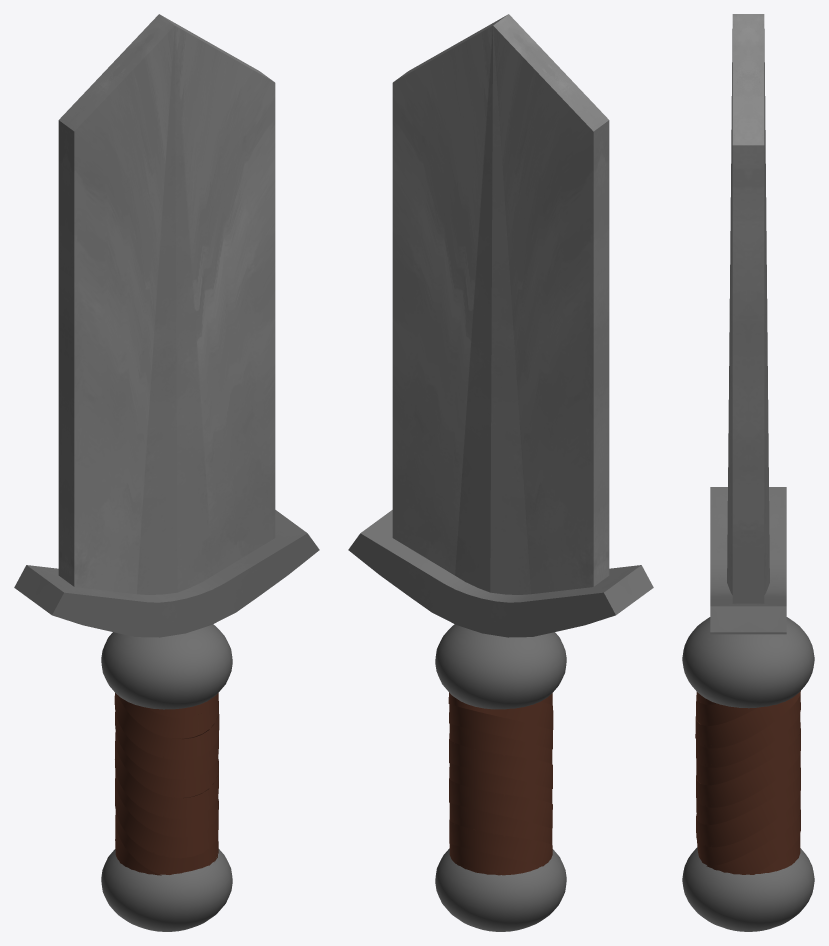
The model's file is Zwaard 2.0.fbx.
The picture shows the model from 3 angles, left to right: view 1: azimuth 30°, elevation 25°; view 2: azimuth 150°, elevation 25°; view 3: azimuth 270°, elevation 25°; orthographic projection.
Visible parts, largest first — view 1: Circle.003, Circle.005, Sphere.005, Sphere.003, Cylinder.062, Cylinder.059, Cylinder.057, Cylinder.061, Cylinder.063, Cylinder.058, Cylinder.060, Cylinder.056; view 2: Circle.003, Circle.005, Sphere.005, Sphere.003, Cylinder.059, Cylinder.057, Cylinder.055, Cylinder.061, Cylinder.056, Cylinder.060, Cylinder.058, Cylinder.054 (+1 smaller); view 3: Circle.003, Sphere.005, Sphere.003, Circle.005, Cylinder.059, Cylinder.057, Cylinder.062, Cylinder.061, Cylinder.056, Cylinder.060, Cylinder.058, Cylinder.055 (+2 smaller).
Part boxes in pixels (bbox=[...]): Circle.003: bbox=[58, 14, 275, 594]; Circle.005: bbox=[14, 510, 319, 637]; Sphere.005: bbox=[101, 624, 232, 709]; Sphere.003: bbox=[101, 849, 232, 931]; Cylinder.062: bbox=[114, 693, 219, 759]; Cylinder.059: bbox=[115, 733, 218, 818]; Cylinder.057: bbox=[115, 778, 218, 858]; Cylinder.061: bbox=[115, 711, 218, 779]; Cylinder.063: bbox=[118, 693, 218, 738]; Cylinder.058: bbox=[115, 738, 218, 837]; Cylinder.060: bbox=[115, 724, 218, 797]; Cylinder.056: bbox=[115, 791, 218, 874]; Circle.003: bbox=[392, 14, 609, 594]; Circle.005: bbox=[348, 510, 653, 637]; Sphere.005: bbox=[435, 624, 566, 709]; Sphere.003: bbox=[435, 848, 566, 931]; Cylinder.059: bbox=[449, 739, 552, 788]; Cylinder.057: bbox=[449, 778, 552, 828]; Cylinder.055: bbox=[449, 820, 552, 866]; Cylinder.061: bbox=[449, 704, 552, 749]; Cylinder.056: bbox=[449, 803, 552, 844]; Cylinder.060: bbox=[449, 723, 552, 763]; Cylinder.058: bbox=[449, 763, 552, 803]; Cylinder.054: bbox=[449, 844, 541, 875]; Circle.003: bbox=[727, 14, 769, 603]; Sphere.005: bbox=[682, 617, 814, 708]; Sphere.003: bbox=[682, 847, 814, 931]; Circle.005: bbox=[710, 487, 786, 634]; Cylinder.059: bbox=[696, 728, 800, 807]; Cylinder.057: bbox=[696, 768, 800, 847]; Cylinder.062: bbox=[695, 691, 800, 748]; Cylinder.061: bbox=[696, 693, 800, 767]; Cylinder.056: bbox=[696, 792, 800, 865]; Cylinder.060: bbox=[696, 713, 800, 785]; Cylinder.058: bbox=[696, 752, 800, 824]; Cylinder.055: bbox=[706, 810, 800, 874].
Bounding box in the file's own units: 245 × 792 × 105.
